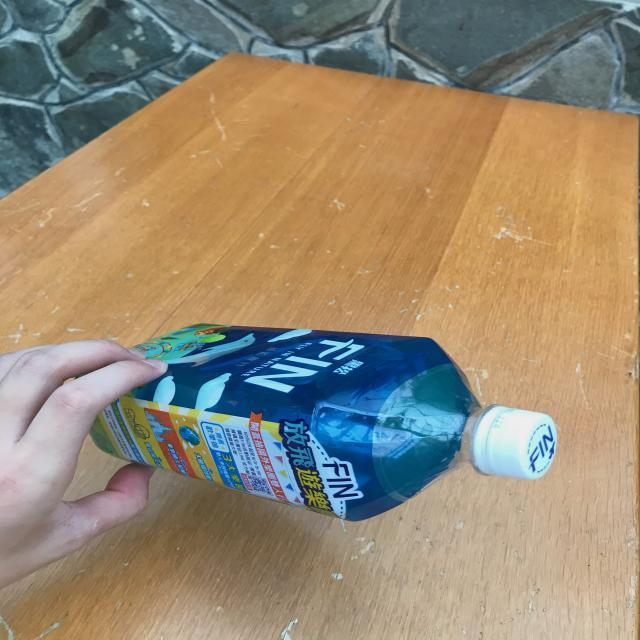plastic_bottle: (74, 322, 558, 521)
